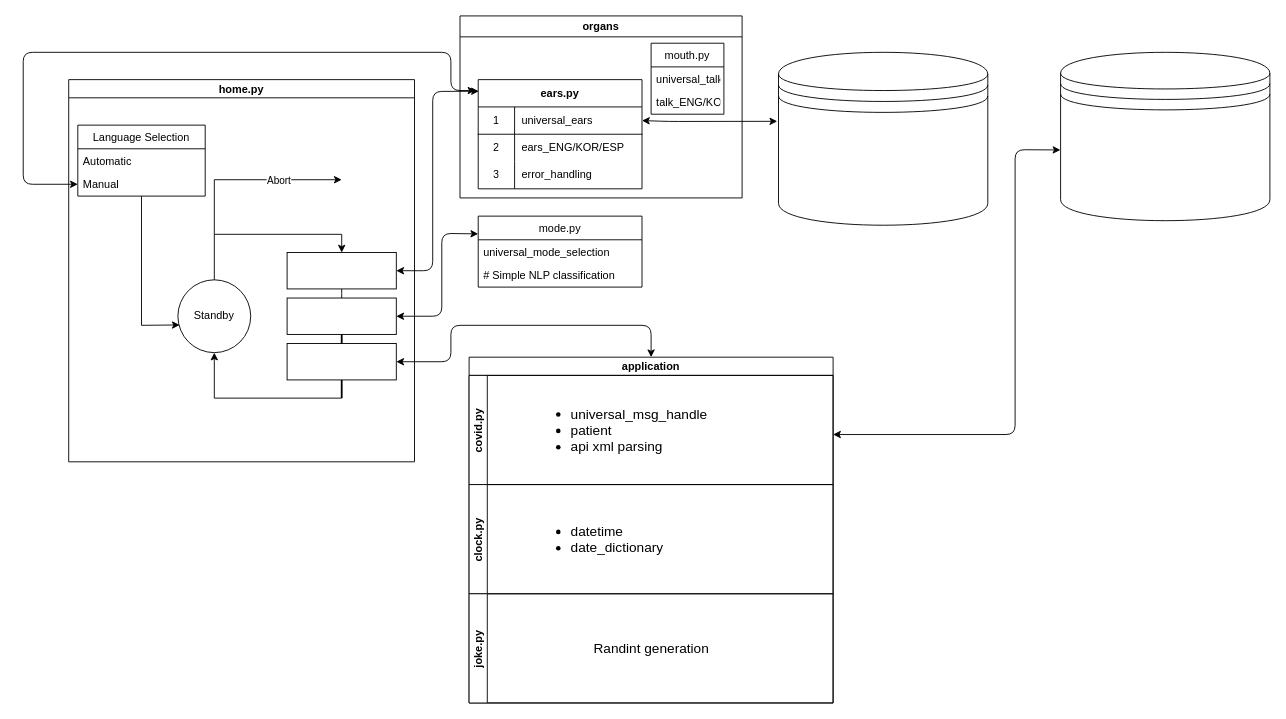
This 1286x719 diagram has some shape labels left out. The shapes that lost their labels are listed below. From the top down, each one's centre as x and y in pixels, then its label:
At [883,138]: "Google SpeechRecognition DB".
At [1165,136]: "Open API Portal DB".
At [341,270]: "listen".
At [341,315]: "mode_selection".
At [341,361]: "Action".
